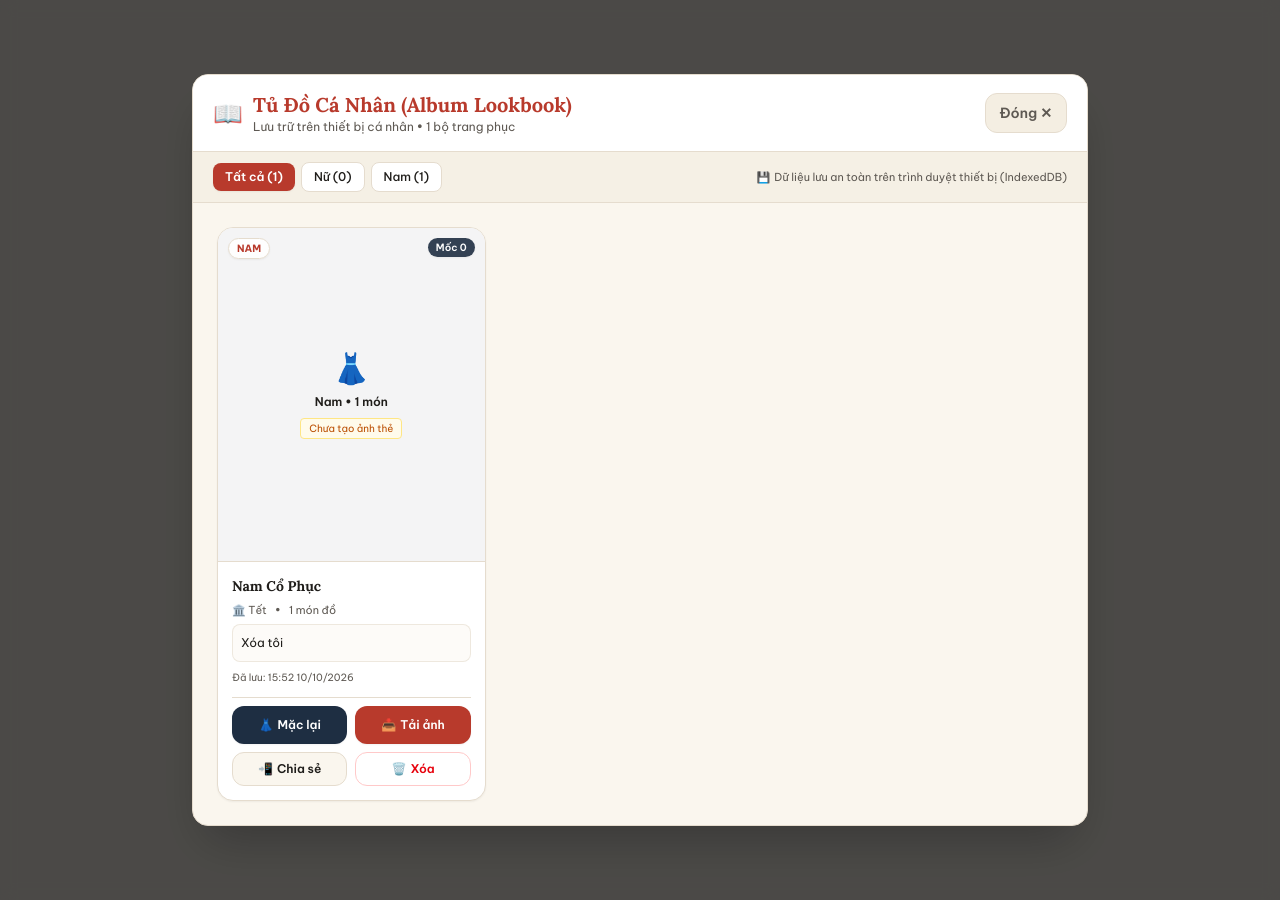
Test: LookbookModal Album component (app/components/LookbookModal.tsx) › deletes the outfit from the album on Xóa click
The image size is (1280, 900).
Expected: the element with test id "lookbook-item-outfit_to_delete" is shown, [217,227,486,801]
Click the button with test id "btn-delete-outfit_to_delete" at {"x": 413, "y": 769}, box [355,752,471,786]
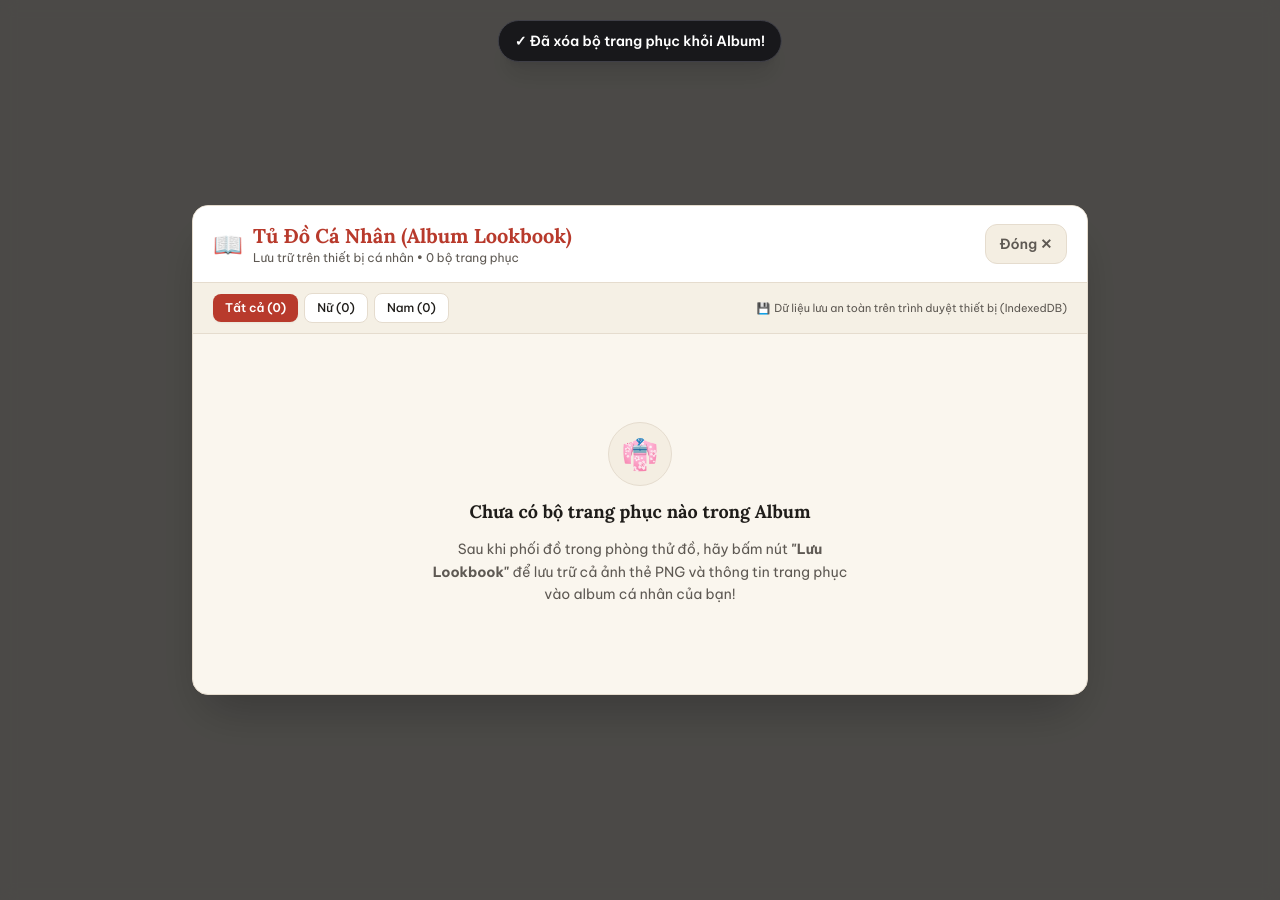
Now the element with test id "lookbook-item-outfit_to_delete" is gone
Now the element with test id "lookbook-empty" is shown, box [433,422,847,603]
Now the message with test id "album-toast" shows "Đã xóa bộ trang phục khỏi Album", box [515,32,765,50]
